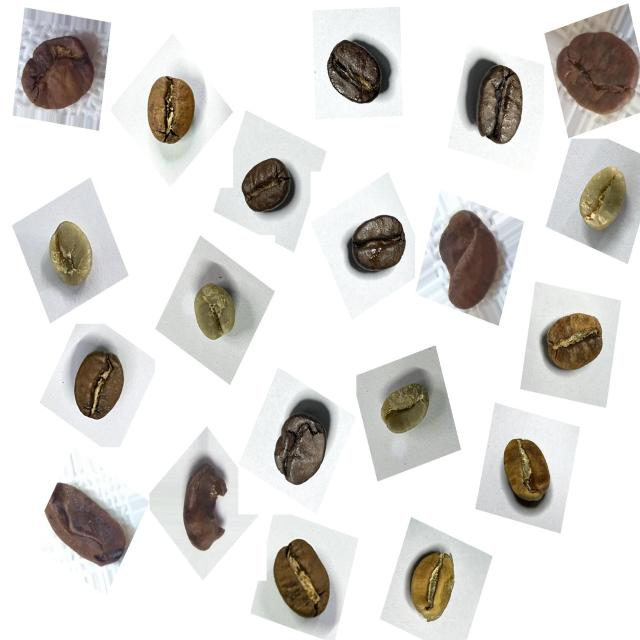bad: (35, 475, 132, 581), (546, 13, 638, 124), (428, 198, 511, 319), (15, 20, 107, 126), (172, 452, 238, 562)
dark: (264, 394, 340, 497), (317, 25, 396, 118), (340, 203, 415, 289), (466, 57, 531, 148), (234, 146, 304, 227)
green: (569, 153, 637, 247), (37, 210, 107, 300), (371, 372, 442, 451), (180, 273, 248, 355)
light: (491, 428, 563, 521), (398, 540, 469, 634)
medium: (260, 528, 343, 636), (62, 341, 138, 434), (534, 299, 613, 386), (136, 64, 207, 156)
